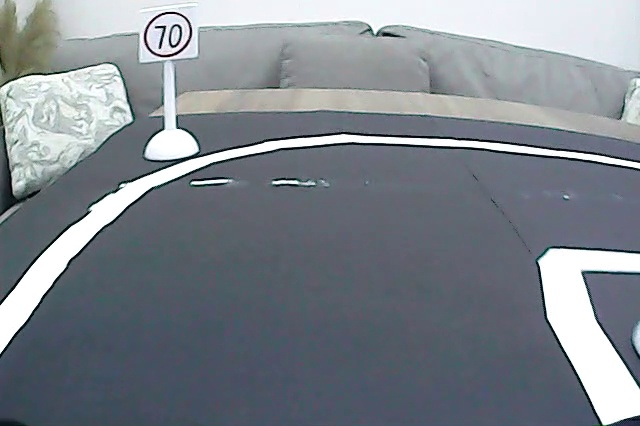speed limit 70: (142, 8, 196, 62)
